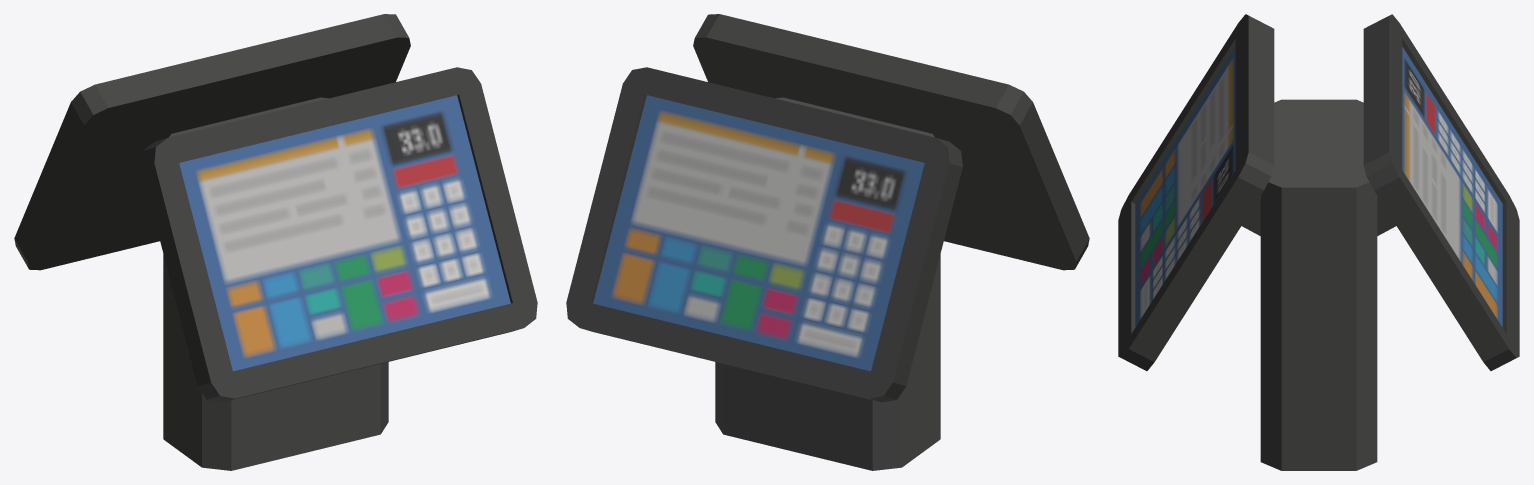
File: SM_Props_Interior_Shop_CashRegister_03.fbx
The picture shows the model from 3 angles, left to right: view 1: azimuth 30°, elevation 25°; view 2: azimuth 150°, elevation 25°; view 3: azimuth 270°, elevation 25°; orthographic projection. The views are drawn at different scales.
Parts seen in each view (by area): view 1: SM_Props_Interior_Shop_CashRegister_03; view 2: SM_Props_Interior_Shop_CashRegister_03; view 3: SM_Props_Interior_Shop_CashRegister_03.
Part boxes in pixels (<box>): SM_Props_Interior_Shop_CashRegister_03: <box>14,14,537,470</box>; SM_Props_Interior_Shop_CashRegister_03: <box>566,14,1089,470</box>; SM_Props_Interior_Shop_CashRegister_03: <box>1118,14,1519,470</box>.
Size of the model in its own units: 35 by 36.33 by 38.5.
